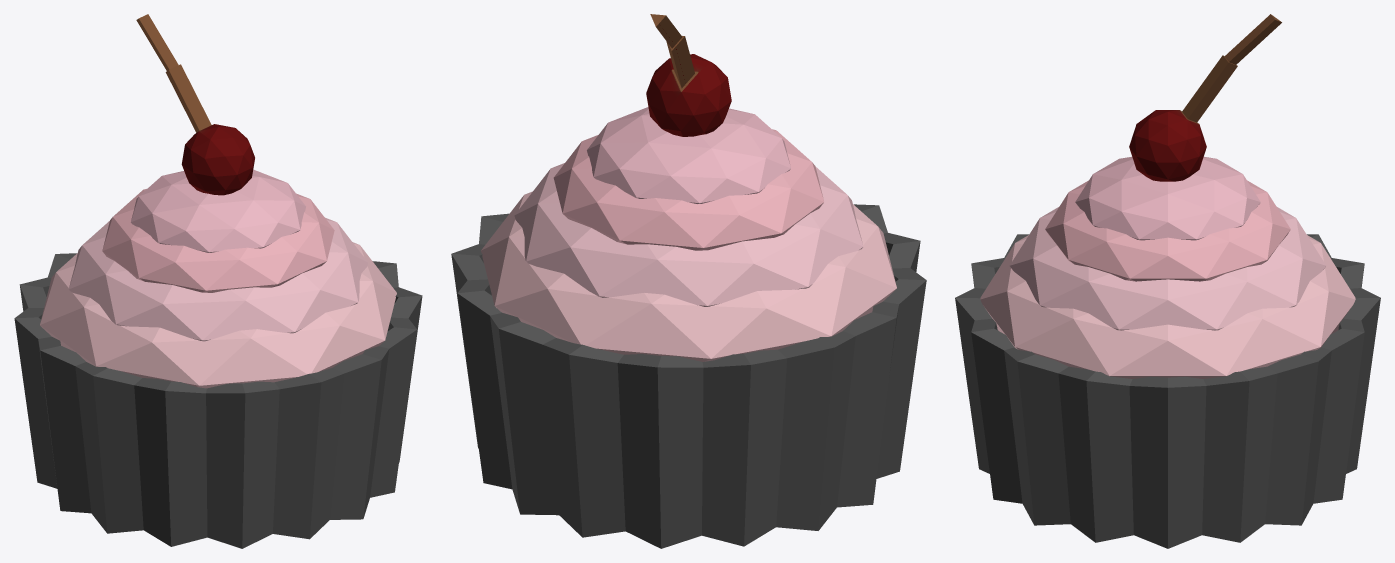
Rendered from cupcake.glb.
3 renders of one model, left to right at view 1: azimuth 30°, elevation 25°; view 2: azimuth 150°, elevation 25°; view 3: azimuth 270°, elevation 25°, orthographic. The views are drawn at different scales.
Visible parts, largest first — view 1: Cylinder; view 2: Cylinder; view 3: Cylinder.
Boxes of the visible parts, x1,y1,x2,y2 form: Cylinder: (14, 14, 422, 548); Cylinder: (451, 14, 926, 548); Cylinder: (955, 14, 1380, 548).
Size of the model in its own units: 2.25 by 2.57 by 2.25.
Materials: 6 (1 with a texture image).
